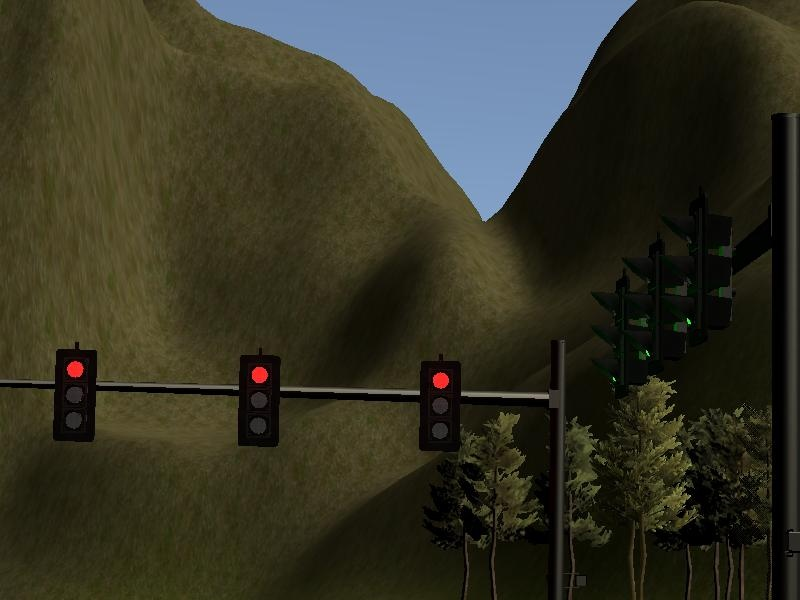RED: (56, 350, 96, 442), (239, 355, 279, 447), (420, 358, 460, 450)
